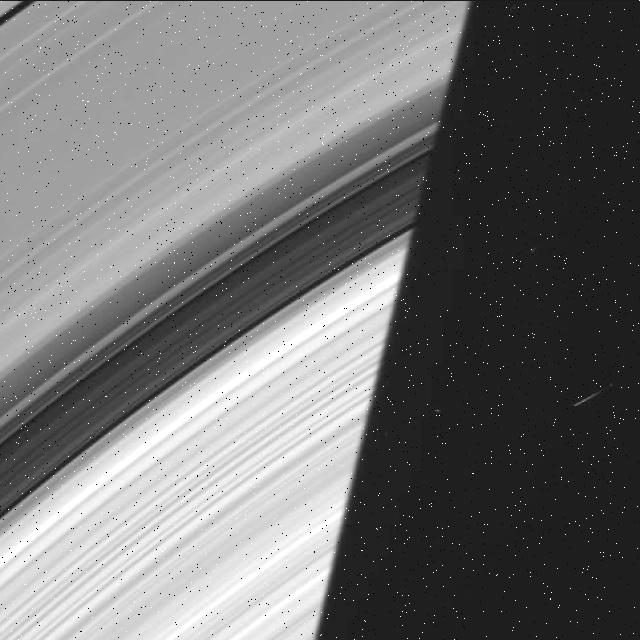Saturn: (0, 0, 478, 640)
